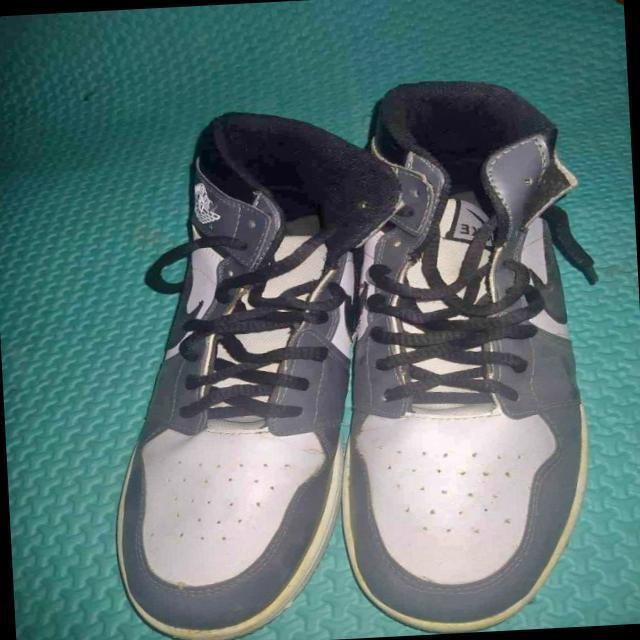nike fake jordan 1: (52, 101, 413, 640), (320, 70, 610, 639)
